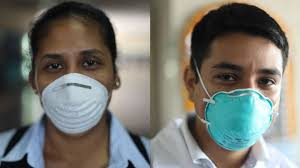with_mask: (23, 8, 125, 137), (187, 20, 287, 149)
